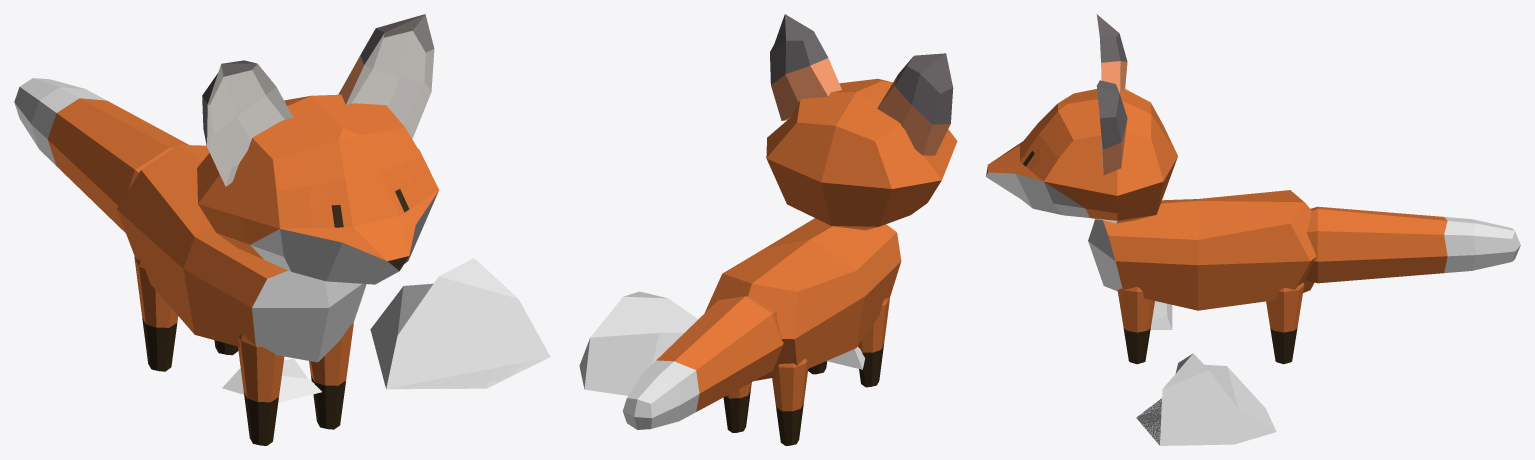
The model's file is SmallRock.fbx.
3 views of the same model, side by side, from view 1: azimuth 30°, elevation 25°; view 2: azimuth 150°, elevation 25°; view 3: azimuth 270°, elevation 25° (orthographic). The views are drawn at different scales.
Visible parts, largest first — view 1: Cube, Cube.002, Cube.021, Cube.001, Cube.005, Cube.003, Cube.004, Cube.020; view 2: Cube, Cube.002, Cube.005, Cube.001, Cube.021, Cube.004, Cube.003, Cube.020; view 3: Cube.002, Cube, Cube.005, Cube.021, Cube.001, Cube.004, Cube.003, Cube.020.
Boxes of the visible parts, bbox=[...] form: Cube: bbox=[197, 94, 438, 284]; Cube.002: bbox=[116, 144, 366, 362]; Cube.021: bbox=[370, 258, 550, 389]; Cube.001: bbox=[202, 14, 434, 186]; Cube.005: bbox=[14, 78, 188, 232]; Cube.003: bbox=[238, 322, 353, 445]; Cube.004: bbox=[134, 257, 238, 371]; Cube.020: bbox=[222, 358, 321, 402]; Cube: bbox=[766, 78, 957, 230]; Cube.002: bbox=[704, 218, 901, 380]; Cube.005: bbox=[623, 296, 783, 429]; Cube.001: bbox=[770, 14, 953, 155]; Cube.021: bbox=[579, 291, 697, 395]; Cube.004: bbox=[723, 358, 808, 445]; Cube.003: bbox=[808, 297, 889, 387]; Cube.020: bbox=[827, 346, 865, 369]; Cube.002: bbox=[1088, 190, 1316, 310]; Cube: bbox=[986, 88, 1177, 223]; Cube.005: bbox=[1305, 206, 1520, 283]; Cube.021: bbox=[1136, 353, 1276, 445]; Cube.001: bbox=[1096, 14, 1127, 175]; Cube.004: bbox=[1266, 282, 1304, 364]; Cube.003: bbox=[1117, 287, 1154, 364]; Cube.020: bbox=[1150, 301, 1172, 329].
Size of the model in its own units: 279 by 290 by 465.
